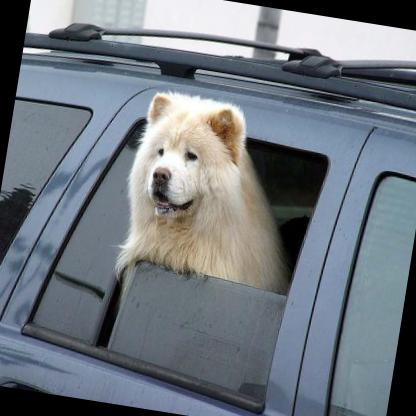chow: (107, 82, 317, 315)
